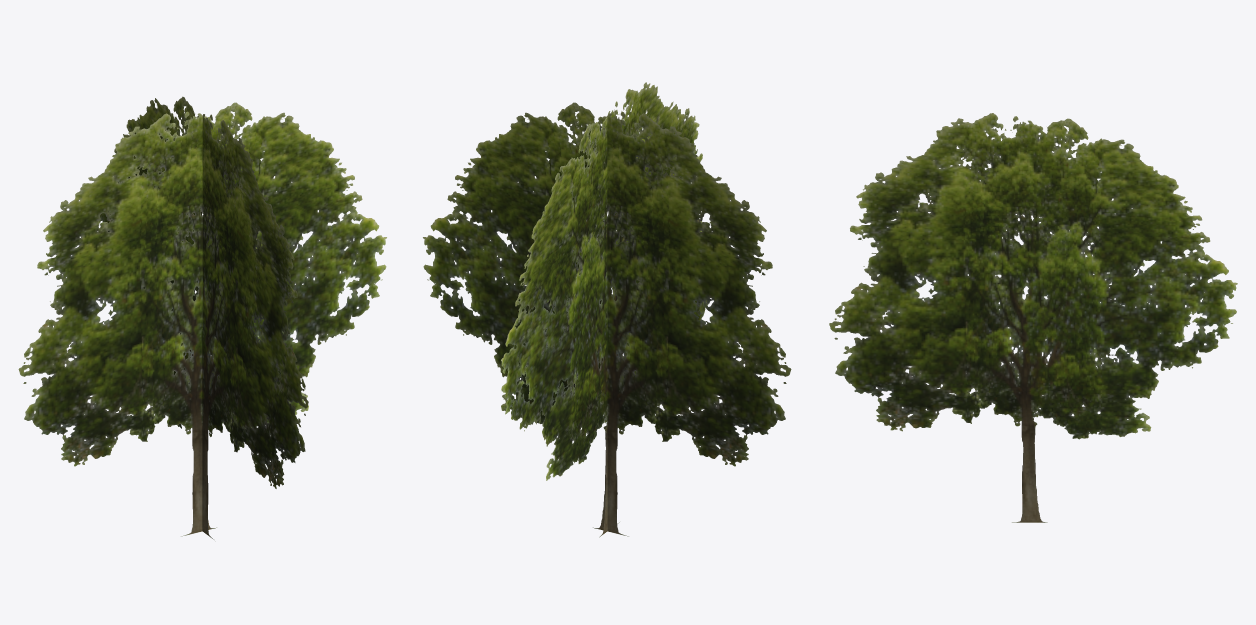
The model's file is tree.fbx.
3 views of the same model, side by side, from view 1: azimuth 30°, elevation 25°; view 2: azimuth 150°, elevation 25°; view 3: azimuth 270°, elevation 25° (orthographic). The views are drawn at different scales.
Parts seen in each view (by area): view 1: Grid.001, Grid; view 2: Grid.001, Grid; view 3: Grid.
Part boxes in pixels (x1,y1,x2,y2): Grid.001: (18,102,386,536); Grid: (99,96,308,539); Grid.001: (423,102,791,536); Grid: (501,82,708,537); Grid: (829,113,1237,522).
Size of the model in its own units: 450 by 500 by 450.
2 materials, 2 textured.
